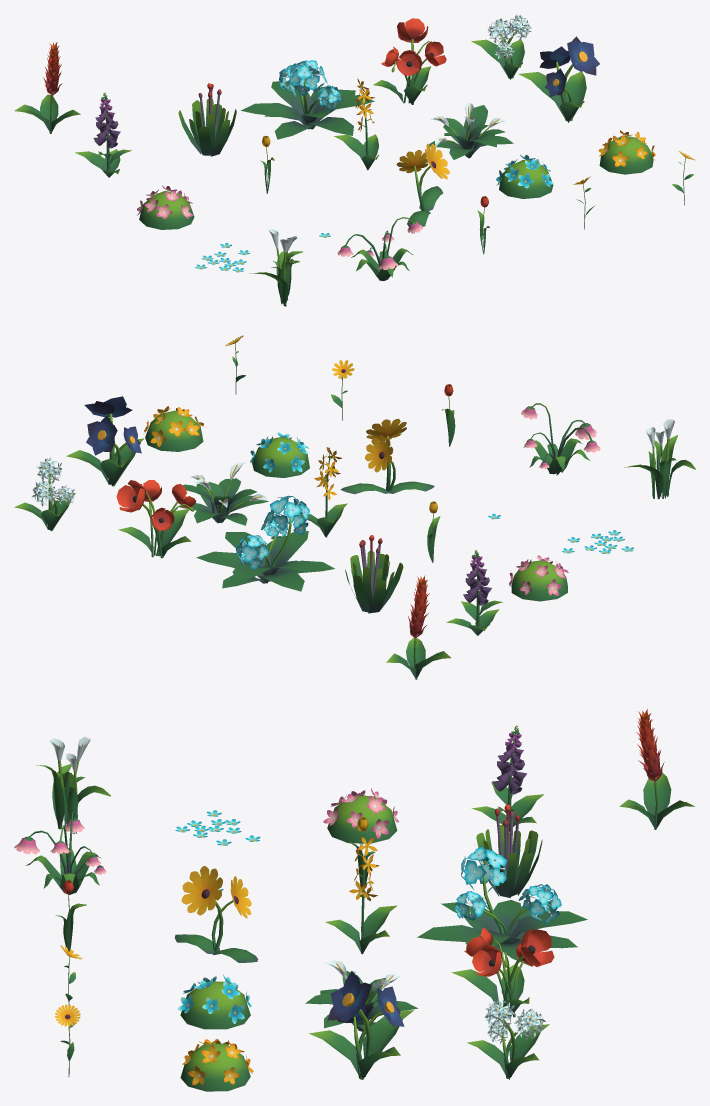
Rendered from Flowers_01.fbx.
3 renders of one model, top to bottom at view 1: azimuth 30°, elevation 25°; view 2: azimuth 150°, elevation 25°; view 3: azimuth 270°, elevation 25°, orthographic. The views are drawn at different scales.
Parts seen in each view (by area): view 1: Flower.028, Flower.024, Flower.029, Flower.023, Flower.027, Flower.019, Flower.017, Flower.018, Flower.030, Flower.016, Flower.025, Flower.002 (+4 smaller); view 2: Flower.028, Flower.029, Flower.024, Flower.023, Flower.027, Flower.016, Flower.018, Flower.002, Flower.017, Flower.019, Flower.030, Flower (+4 smaller); view 3: Flower.028, Flower.024, Flower.029, Flower.016, Flower.017, Flower.030, Flower.018, Flower.019, Flower.027, Flower.031, Flower.002, Flower.025 (+5 smaller).
Boxes of the visible parts, left/top/right/bottom form: Flower.028: left=241, top=60, right=374, bottom=139; Flower.024: left=518, top=36, right=599, bottom=122; Flower.029: left=373, top=18, right=446, bottom=104; Flower.023: left=429, top=103, right=513, bottom=159; Flower.027: left=178, top=83, right=236, bottom=156; Flower.019: left=137, top=185, right=194, bottom=229; Flower.017: left=496, top=154, right=553, bottom=198; Flower.018: left=598, top=130, right=655, bottom=174; Flower.030: left=471, top=14, right=531, bottom=79; Flower.016: left=396, top=143, right=449, bottom=226; Flower.025: left=75, top=92, right=131, bottom=177; Flower.002: left=337, top=217, right=422, bottom=280; Flower.028: left=196, top=495, right=334, bottom=591; Flower.029: left=116, top=480, right=196, bottom=558; Flower.024: left=66, top=396, right=143, bottom=486; Flower.023: left=179, top=462, right=269, bottom=525; Flower.027: left=345, top=535, right=403, bottom=613; Flower.016: left=340, top=418, right=434, bottom=494; Flower.018: left=144, top=406, right=206, bottom=451; Flower.002: left=521, top=403, right=600, bottom=475; Flower.017: left=250, top=432, right=309, bottom=477; Flower.019: left=509, top=555, right=568, bottom=601; Flower.030: left=14, top=458, right=75, bottom=531; Flower: left=624, top=419, right=695, bottom=499; Flower.028: left=417, top=846, right=587, bottom=966; Flower.024: left=309, top=971, right=414, bottom=1079; Flower.029: left=451, top=927, right=554, bottom=1017; Flower.016: left=175, top=866, right=257, bottom=962; Flower.017: left=177, top=974, right=251, bottom=1029; Flower.030: left=467, top=1000, right=549, bottom=1079; Flower.018: left=180, top=1039, right=253, bottom=1091; Flower.019: left=323, top=788, right=398, bottom=843; Flower.027: left=476, top=804, right=542, bottom=898; Flower.031: left=619, top=709, right=694, bottom=829; Flower.002: left=14, top=811, right=106, bottom=894; Flower.025: left=471, top=725, right=543, bottom=831.
Size of the model in its own units: 1928 by 417 by 1935.
